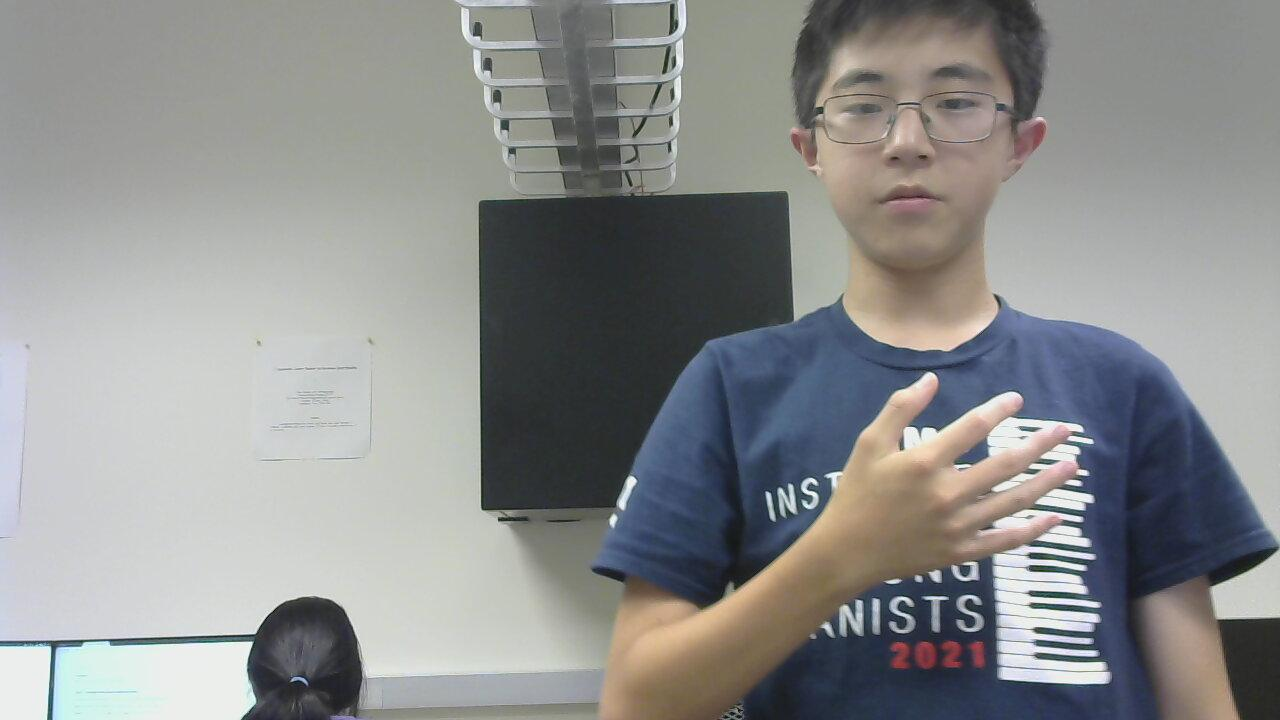hands: (822, 367, 1082, 585)
